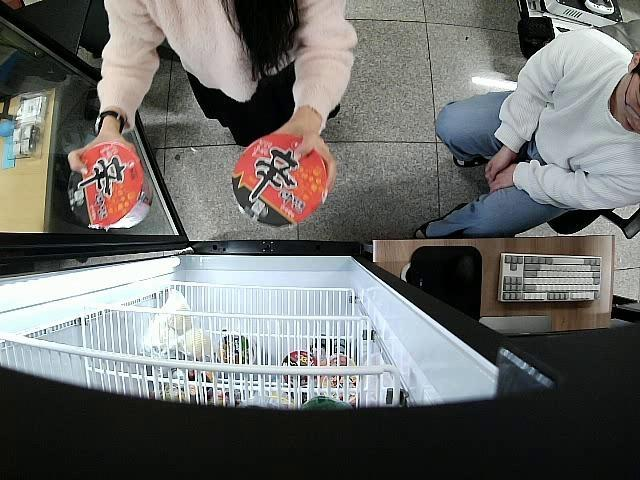01_ShinRamen_L: (232, 132, 328, 230), (70, 144, 154, 230)
